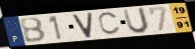1: (48, 15, 64, 41)
7: (147, 5, 171, 33)
B: (18, 17, 48, 44)
C: (97, 11, 122, 37)
U: (121, 6, 151, 35)
V: (71, 12, 94, 39)
